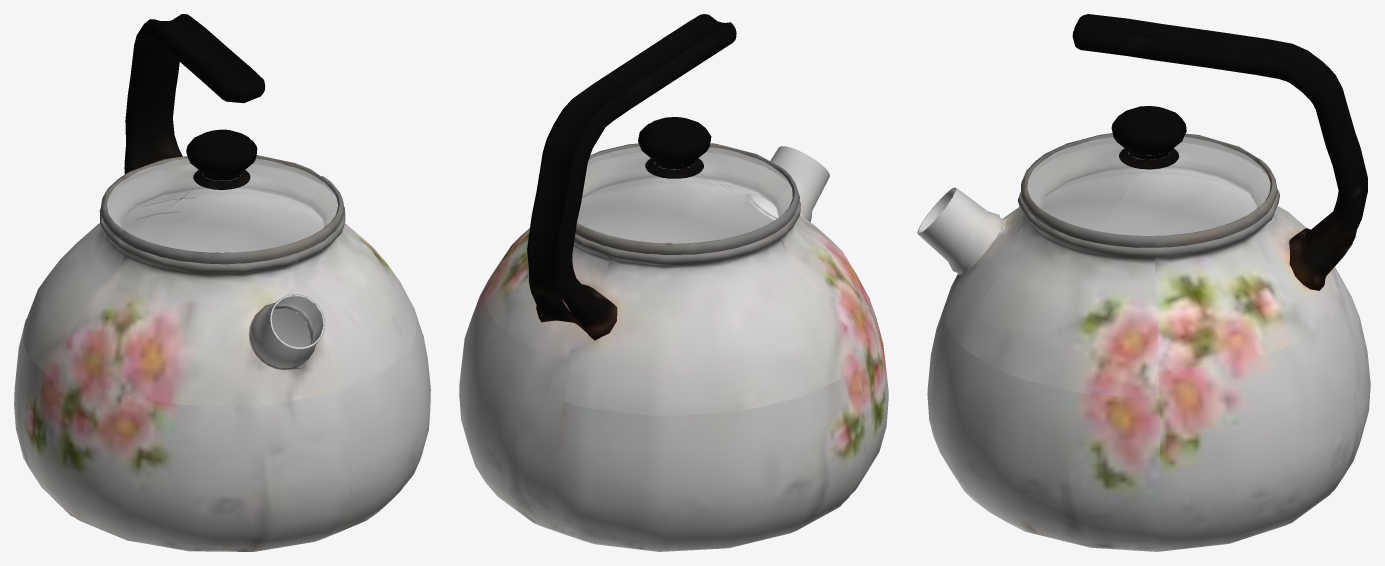
Rendered from obj_teapot.glb.
The picture shows the model from 3 angles, left to right: view 1: azimuth 30°, elevation 25°; view 2: azimuth 150°, elevation 25°; view 3: azimuth 270°, elevation 25°; orthographic projection. The views are drawn at different scales.
Parts seen in each view (by area): view 1: Object_4; view 2: Object_4; view 3: Object_4.
Part boxes in pixels (x1=…): Object_4: x1=14, y1=14, x2=430, y2=551; Object_4: x1=459, y1=14, x2=888, y2=551; Object_4: x1=917, y1=14, x2=1370, y2=551.
Size of the model in its own units: 0.2061 by 0.2402 by 0.2119.
5 materials, 4 textured.
